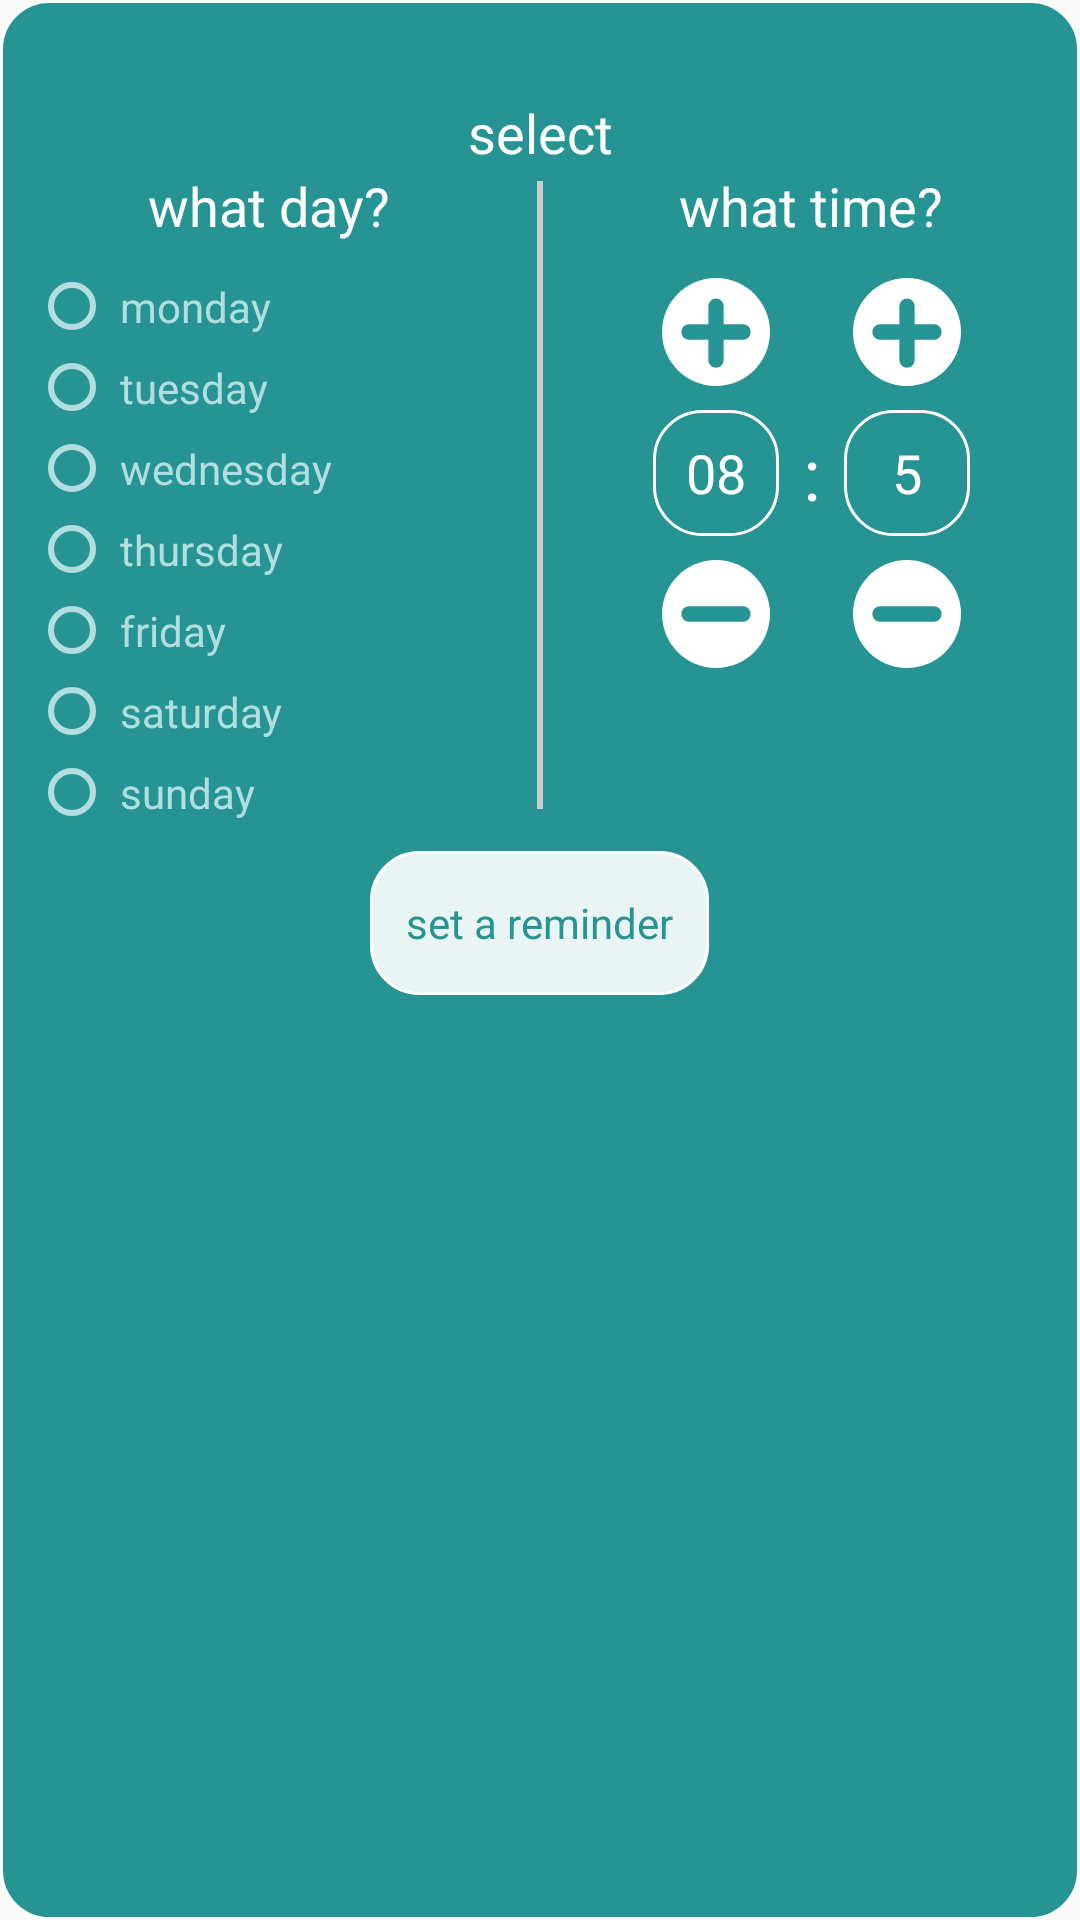

Icon bounding boxes for this 1080×1920 phone screenshot, format (x1, y1, x2, y2):
minus: (662, 560, 770, 668), (853, 560, 961, 668)
plus: (662, 278, 770, 386), (853, 278, 961, 386)
